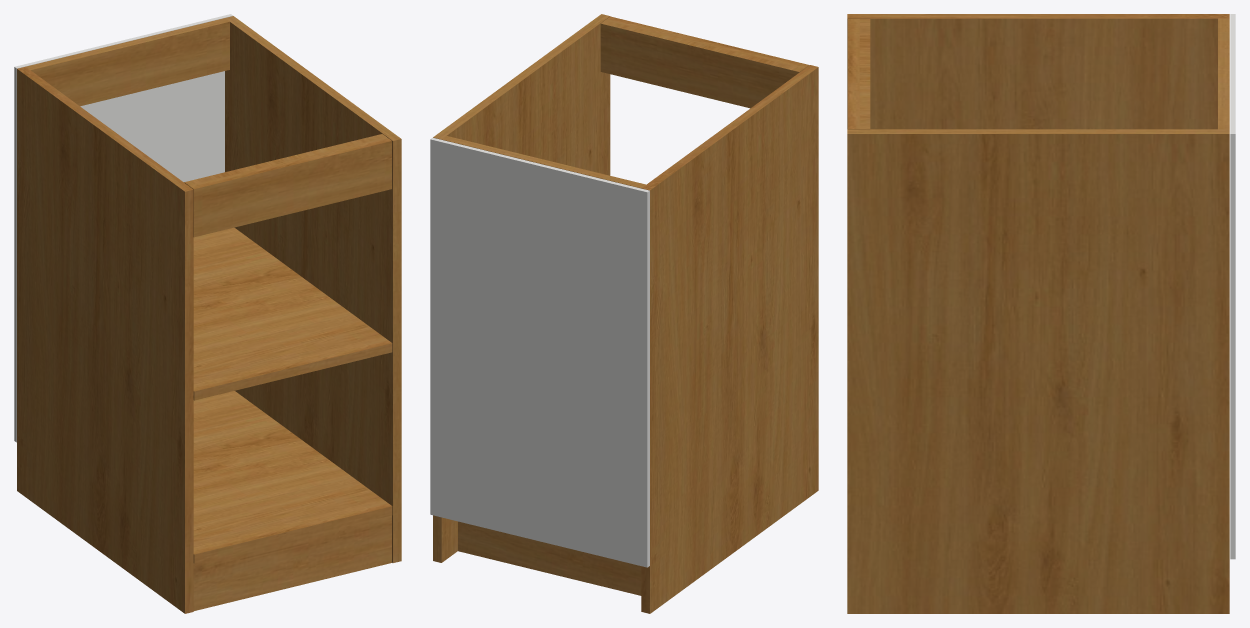
File: modul2group.glb
3 renders of one model, left to right at view 1: azimuth 30°, elevation 25°; view 2: azimuth 150°, elevation 25°; view 3: azimuth 270°, elevation 25°, orthographic. The views are drawn at different scales.
Parts seen in each view (by area): view 1: 29936, 29750; view 2: 29936, 29750; view 3: 29936, 29750.
Boxes of the visible parts, x1,y1,x2,y2 form: 29936: [17, 16, 401, 613]; 29750: [14, 14, 232, 442]; 29936: [433, 14, 818, 613]; 29750: [430, 137, 649, 567]; 29936: [847, 14, 1229, 613]; 29750: [1230, 14, 1235, 559].
Size of the model in its own units: 0.424 by 0.79 by 0.579.
Materials: 96 (84 with a texture image).
